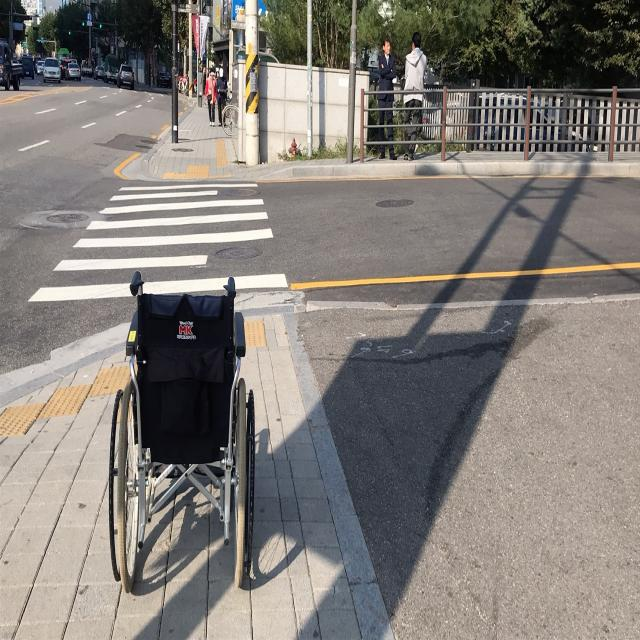횡단보도: (27, 179, 290, 305)
